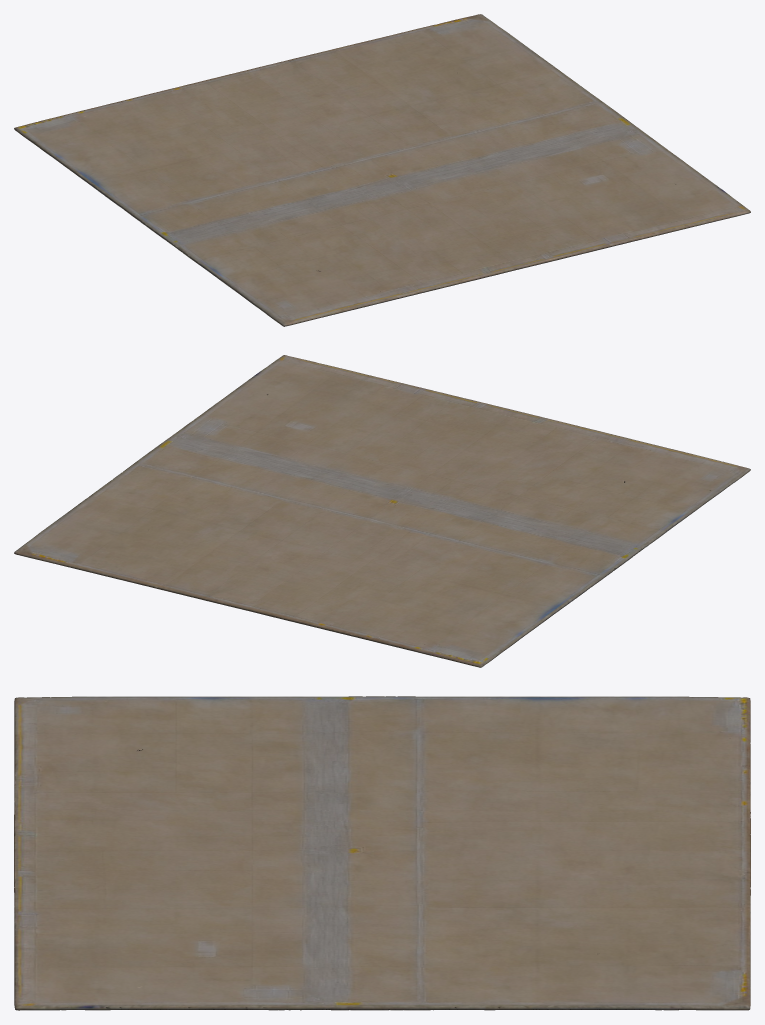
The picture shows the model from 3 angles, top to bottom: view 1: azimuth 30°, elevation 25°; view 2: azimuth 150°, elevation 25°; view 3: azimuth 270°, elevation 25°; orthographic projection. The views are drawn at different scales.
Visible parts, largest first — view 1: file1; view 2: file1; view 3: file1.
Boxes of the visible parts, x1,y1,x2,y2 form: file1: (14,14,750,326); file1: (14,355,750,667); file1: (14,696,750,1010).
Size of the model in its own units: 2 by 0.0166 by 2.
1 material, 1 textured.
